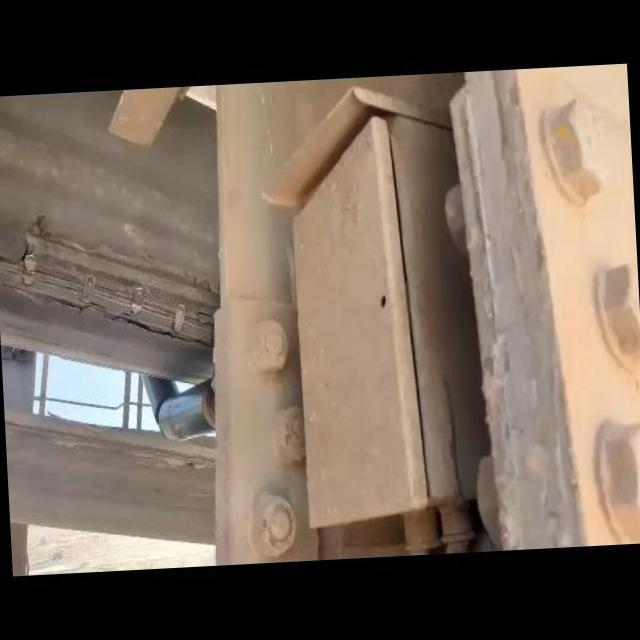Tear: (16, 194, 222, 372)
